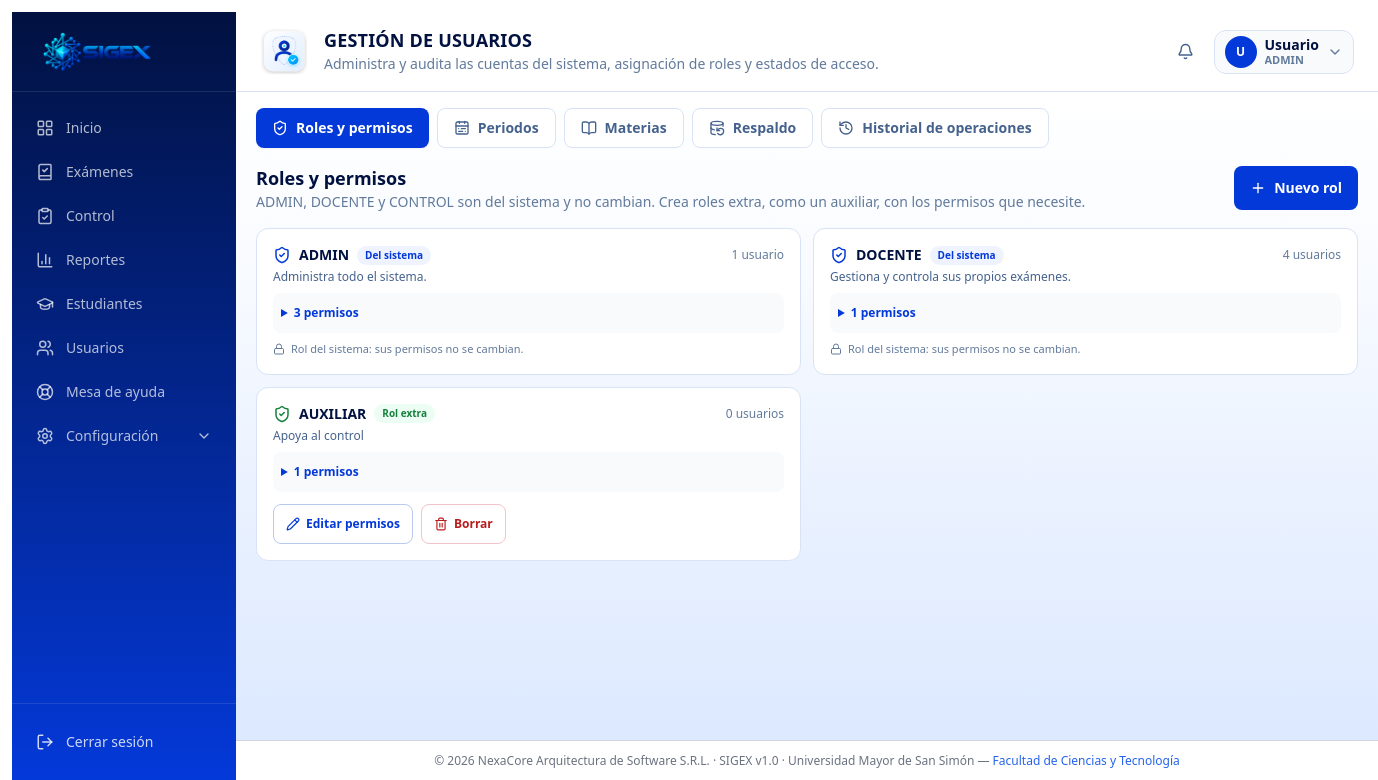
Configuración → Roles y permisos › IMP-10: el ADMIN pasa a la pestaña Respaldo
Expected: the tab "Roles y permisos" is shown, [256,108,429,148]
Click the tab "Respaldo" at (752, 128), box [692,108,813,148]
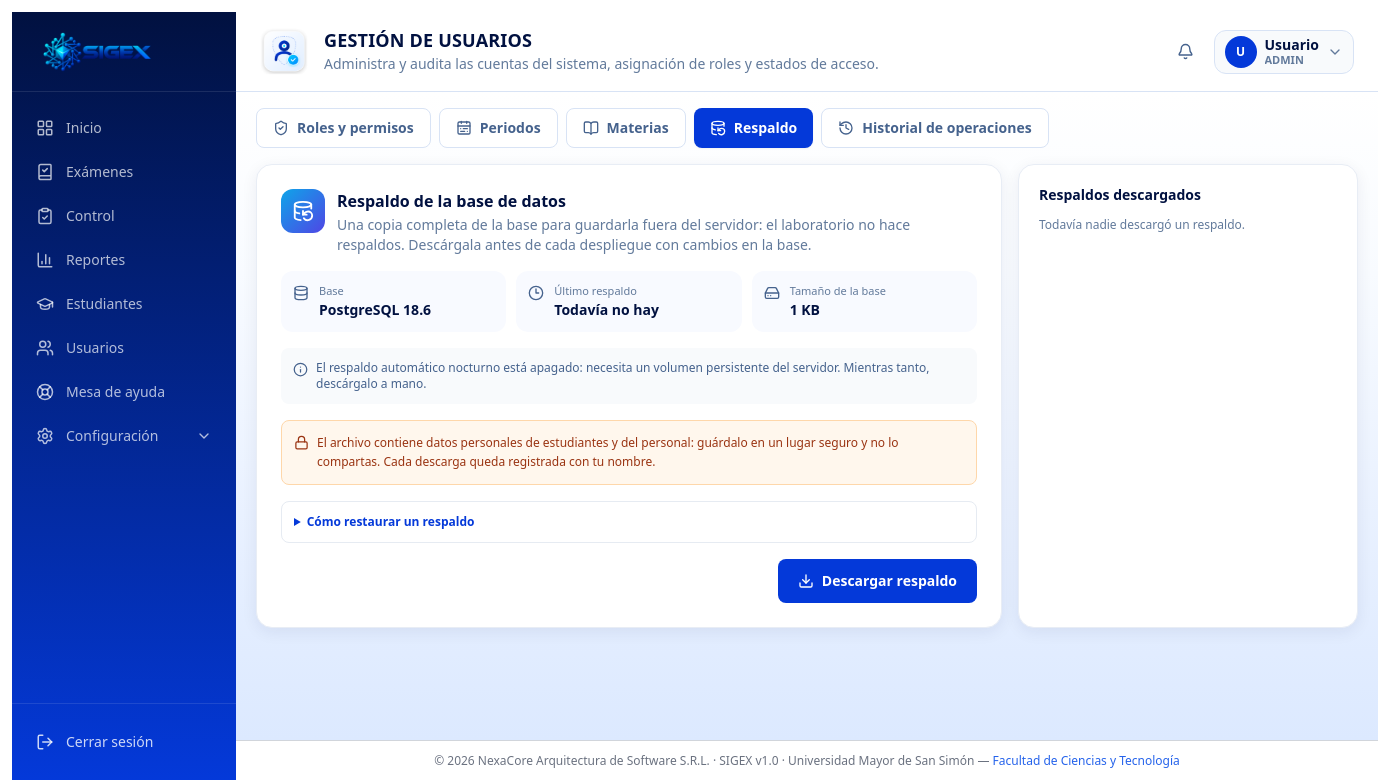
Expected: the heading "Respaldo de la base de datos" is shown, [337,190,566,212]
Expected: the text "PostgreSQL 18.6" is shown, [319,300,431,320]
